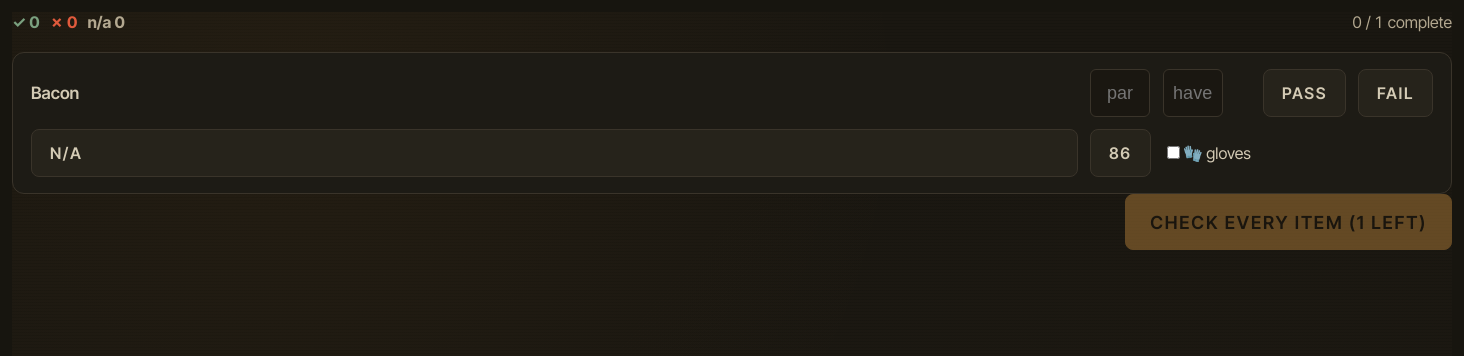
Scenario: StationChecklist status buttons › requires a selected cook before writing pass/fail status
Click the button with aria-label "Pass Bacon". click: coordinates (1304, 93)
box: x1=1263 y1=69 x2=1346 y2=117
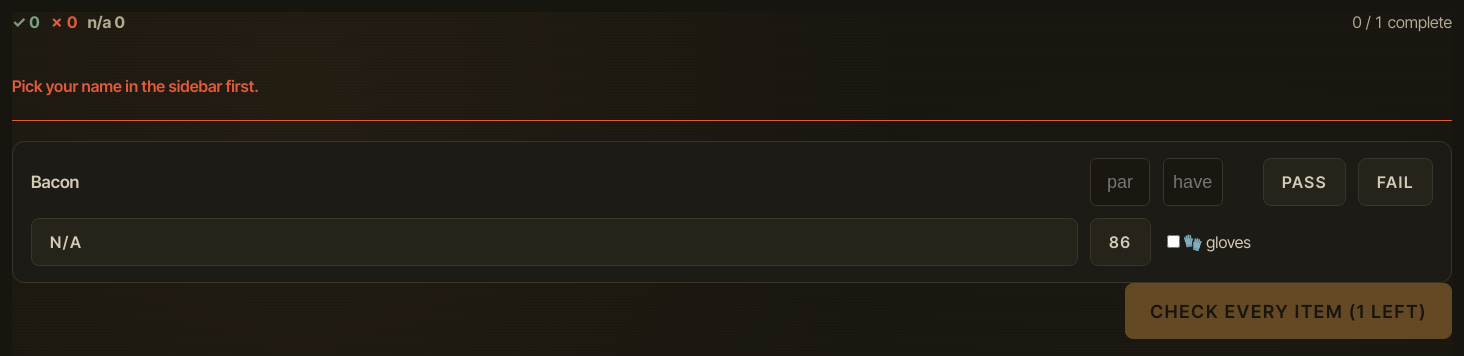
Expected: the message "Pick your name in the sidebar first." is shown, x1=12 y1=52 x2=1452 y2=121
